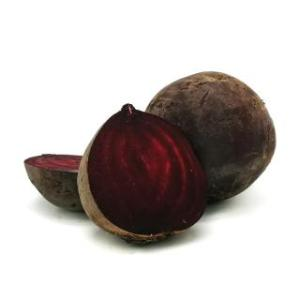beet: (23, 69, 275, 245)
